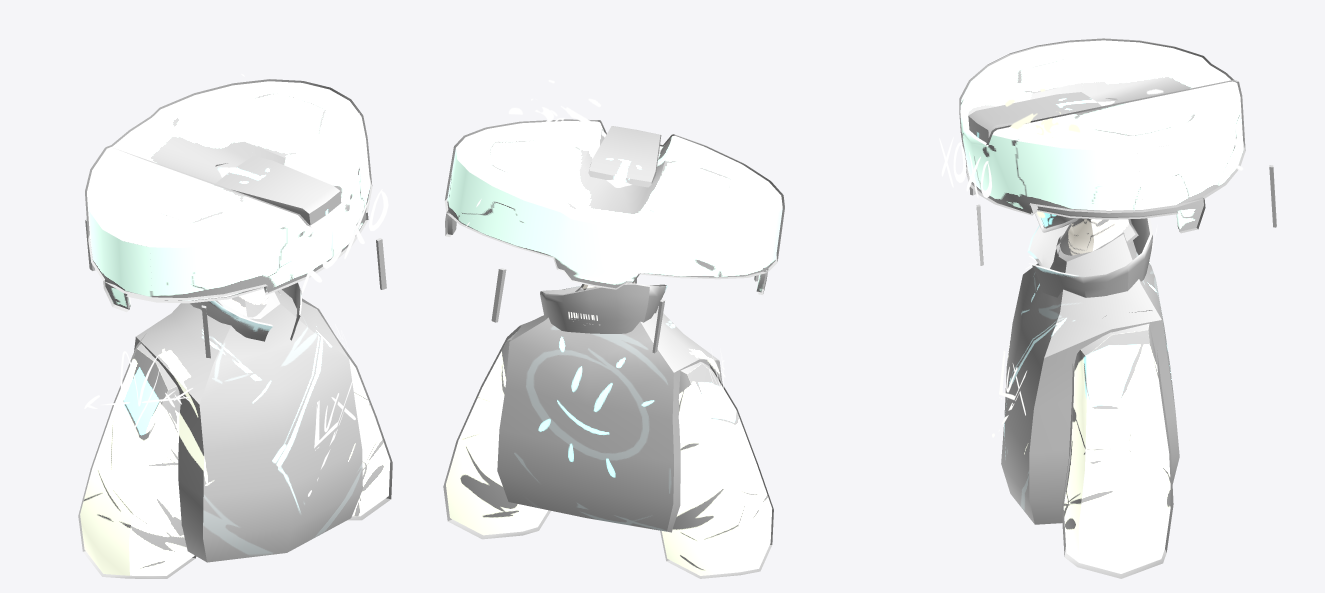
File: spx1.glb
3 views of the same model, side by side, from view 1: azimuth 30°, elevation 25°; view 2: azimuth 150°, elevation 25°; view 3: azimuth 270°, elevation 25° (orthographic). The views are drawn at different scales.
Parts seen in each view (by area): view 1: UFO_Hat01, BAGGY_Jacket01, BAGGY_Sleaves01, STAPLER_Top01, UFO_Hat01.001, BAGGY_Sleaves01.001, POPOFF_Collar, Plane, Plane.005, BASENECK, Plane.007, Cylinder.002; view 2: UFO_Hat01, BAGGY_Jacket01, BAGGY_Sleaves01, POPOFF_Collar, STAPLER_Top01, UFO_Hat01.001, BAGGY_Sleaves01.001, Plane.006; view 3: UFO_Hat01, BAGGY_Jacket01, BAGGY_Sleaves01, POPOFF_Collar, UFO_Hat01.001, STAPLER_Top01, BASENECK, BAGGY_Sleaves01.001, Plane, Plane.002.
Part boxes in pixels (x1,y1,x2,y2): UFO_Hat01: (87, 81, 370, 308); BAGGY_Jacket01: (134, 289, 362, 562); BAGGY_Sleaves01: (80, 343, 390, 575); STAPLER_Top01: (215, 155, 341, 225); UFO_Hat01.001: (85, 79, 372, 312); BAGGY_Sleaves01.001: (78, 298, 392, 578); POPOFF_Collar: (190, 282, 301, 341); Plane: (298, 189, 388, 293); Plane.005: (84, 351, 192, 430); BASENECK: (220, 289, 268, 317); Plane.007: (308, 378, 355, 496); Cylinder.002: (85, 219, 386, 289); UFO_Hat01: (447, 121, 782, 292); BAGGY_Jacket01: (497, 287, 722, 532); BAGGY_Sleaves01: (446, 332, 772, 575); POPOFF_Collar: (540, 283, 667, 333); STAPLER_Top01: (588, 126, 661, 187); UFO_Hat01.001: (444, 119, 784, 294); BAGGY_Sleaves01.001: (443, 322, 773, 578); Plane.006: (508, 80, 606, 137); UFO_Hat01: (960, 40, 1243, 229); BAGGY_Jacket01: (1001, 232, 1179, 524); BAGGY_Sleaves01: (1063, 324, 1171, 573); POPOFF_Collar: (1027, 218, 1152, 297); UFO_Hat01.001: (959, 38, 1245, 233); STAPLER_Top01: (968, 92, 1101, 142); BASENECK: (1059, 218, 1135, 255); BAGGY_Sleaves01.001: (1061, 310, 1173, 578); Plane: (939, 137, 991, 198); Plane.002: (1057, 89, 1243, 170).
Size of the model in its own units: 2.48 by 3.18 by 2.3.
10 materials, 2 textured.
